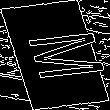M_E: (7, 28, 103, 82)
